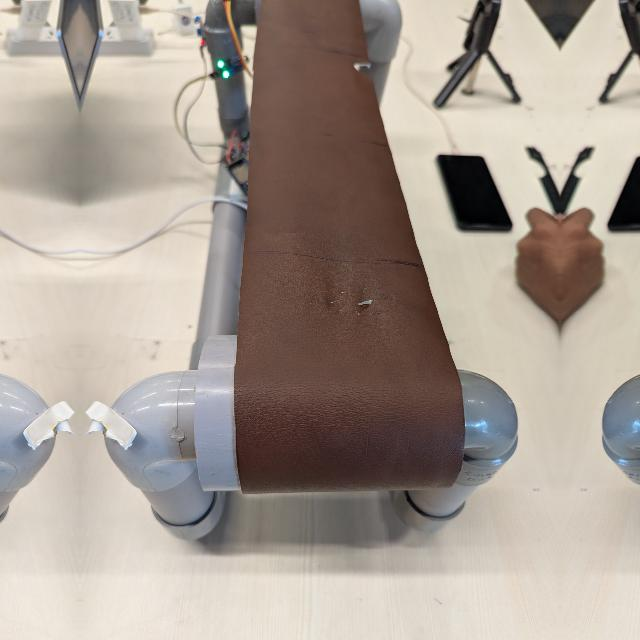belt_crack: (296, 272, 407, 337)
belt_tear: (347, 53, 373, 84)
